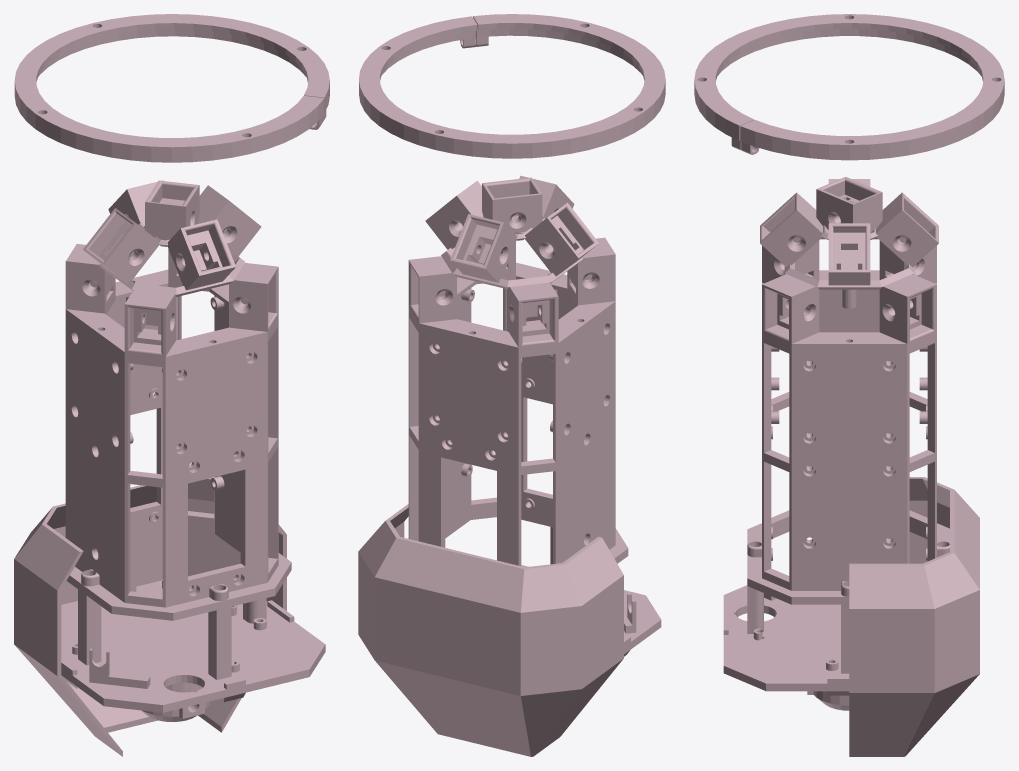
File: monolith 2.glb
The picture shows the model from 3 angles, left to right: view 1: azimuth 30°, elevation 25°; view 2: azimuth 150°, elevation 25°; view 3: azimuth 270°, elevation 25°; orthographic projection. The views are drawn at different scales.
Visible parts, largest first — view 1: monolith.stl; view 2: monolith.stl; view 3: monolith.stl.
Part boxes in pixels (x1,y1,x2,y2): monolith.stl: (14, 14, 329, 756); monolith.stl: (358, 14, 665, 756); monolith.stl: (694, 14, 1004, 756).
Size of the model in its own units: 147 by 342 by 147.
